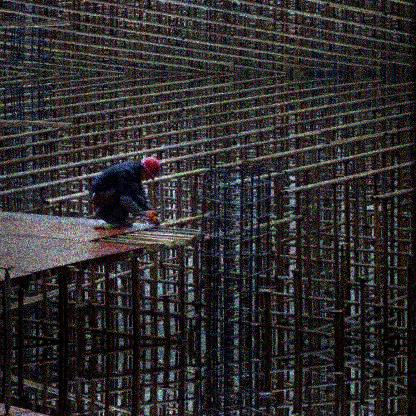helmet: (136, 157, 161, 181)
